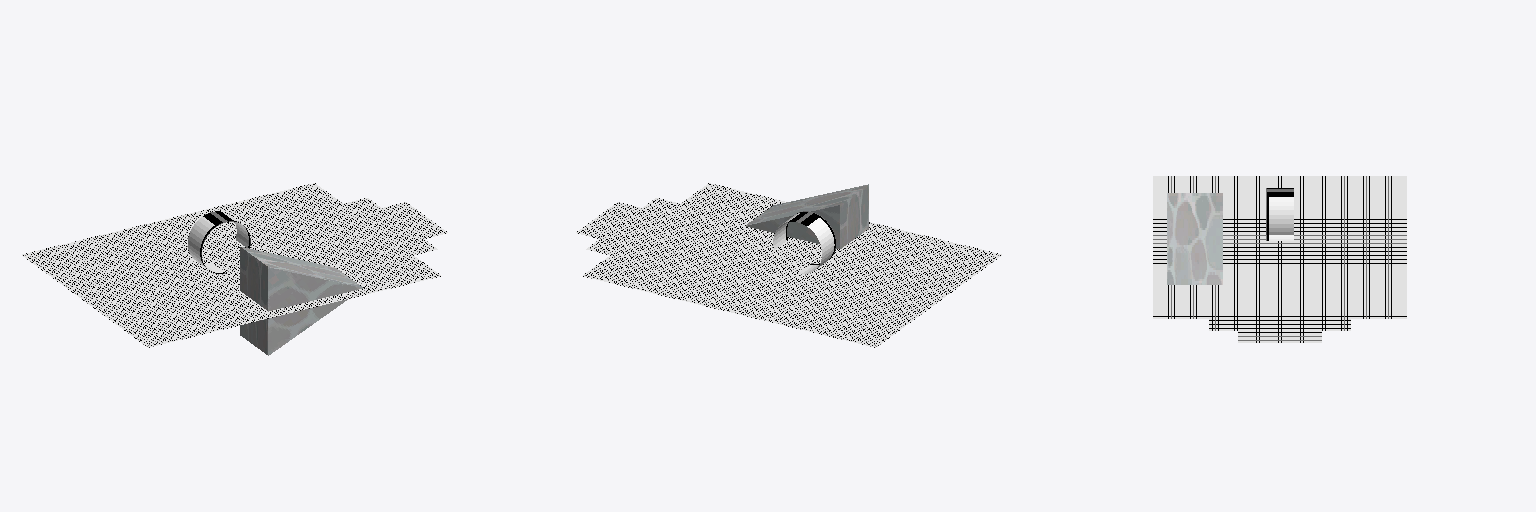
The picture shows the model from 3 angles: view 1: azimuth 30°, elevation 25°; view 2: azimuth 150°, elevation 25°; view 3: azimuth 270°, elevation 25°; orthographic projection.
Visible parts, largest first — view 1: Plane.180_Plane.362, Cylinder.001, Cylinder; view 2: Plane.180_Plane.362, Cylinder.001, Cylinder; view 3: Plane.180_Plane.362, Cylinder.001, Cylinder.
Part boxes in pixels (bbox=[...]): Plane.180_Plane.362: bbox=[22, 183, 447, 347]; Cylinder.001: bbox=[240, 247, 362, 355]; Cylinder: bbox=[188, 211, 250, 273]; Plane.180_Plane.362: bbox=[576, 183, 1001, 347]; Cylinder.001: bbox=[746, 184, 868, 248]; Cylinder: bbox=[773, 211, 835, 273]; Plane.180_Plane.362: bbox=[1153, 176, 1406, 342]; Cylinder.001: bbox=[1167, 193, 1222, 284]; Cylinder: bbox=[1266, 188, 1293, 240].
Bounding box in the file's own units: 630 × 168 × 405.
2 materials, 2 textured.